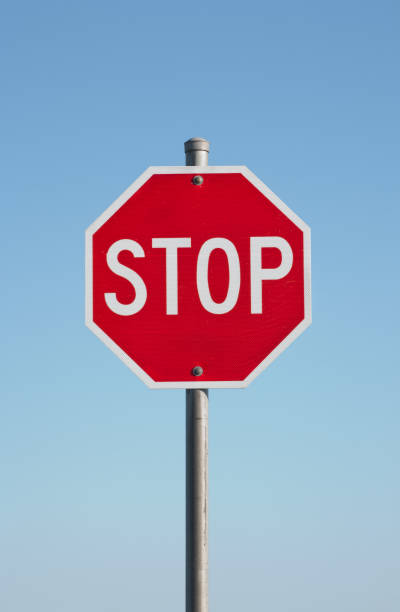StopSign: (83, 164, 311, 389)
